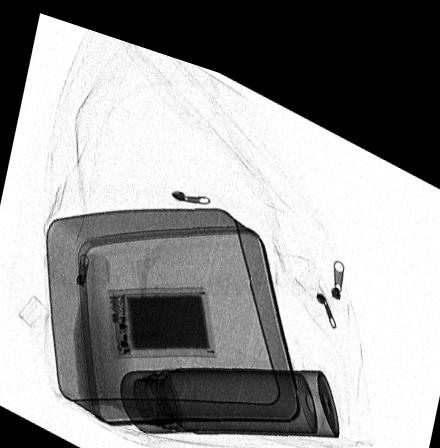Powerbank: (102, 273, 215, 350)
